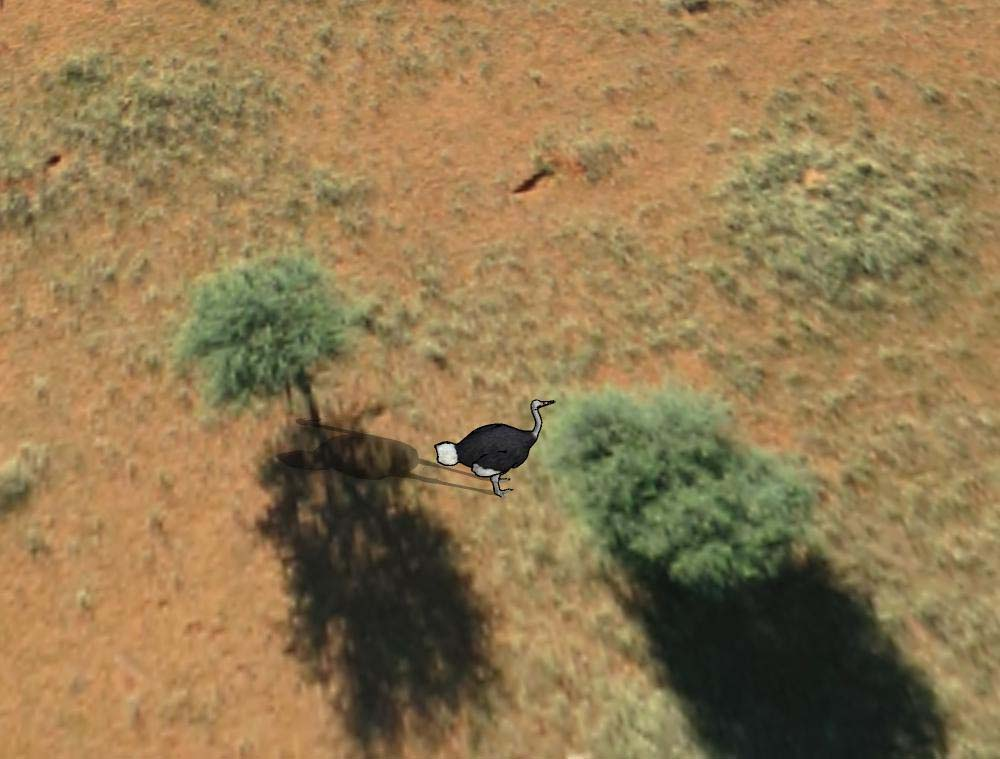ostrich: (433, 395, 557, 498)
